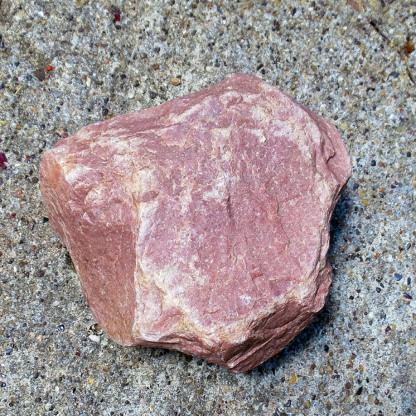Metamorphic_Quartize: (29, 70, 356, 376)
